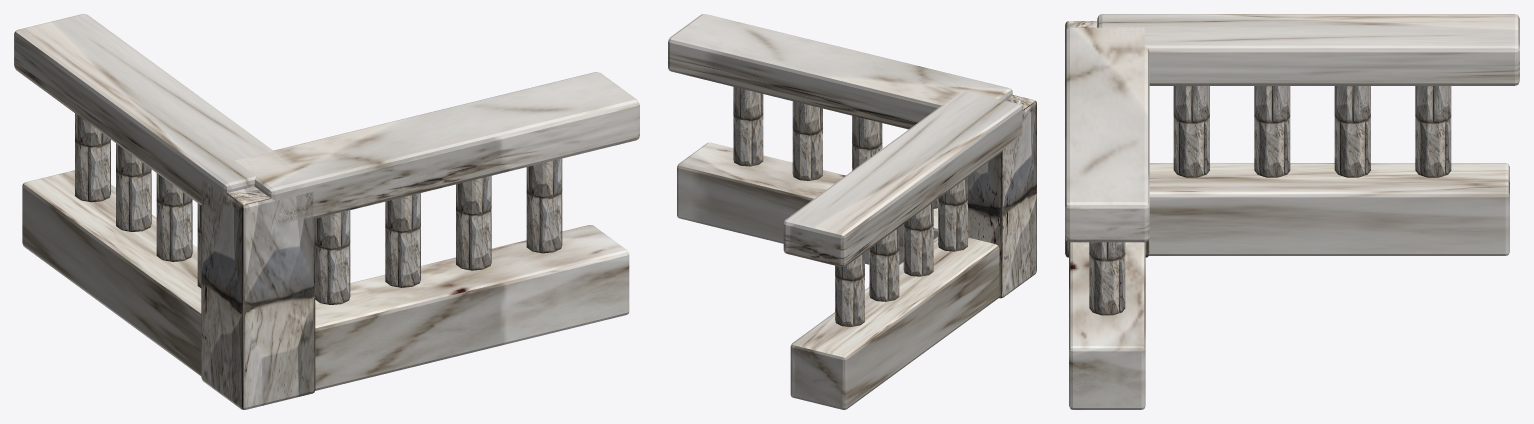
The model's file is balustrade_vault_corner_LOD1.glb.
The picture shows the model from 3 angles, left to right: view 1: azimuth 30°, elevation 25°; view 2: azimuth 150°, elevation 25°; view 3: azimuth 270°, elevation 25°; orthographic projection. The views are drawn at different scales.
Visible parts, largest first — view 1: LOD1_XRail, LOD1_XPlinth, LOD1_CornerPier, LOD1_YRail, LOD1_YPlinth, LOD1_Baluster.003, LOD1_Baluster, LOD1_Baluster.001, LOD1_Baluster.002, LOD1_Baluster.005, LOD1_Baluster.007, LOD1_Baluster.006; view 2: LOD1_XRail, LOD1_YRail, LOD1_YPlinth, LOD1_XPlinth, LOD1_CornerPier, LOD1_Baluster.002, LOD1_Baluster.003, LOD1_Baluster.006, LOD1_Baluster.005, LOD1_Baluster.007, LOD1_Baluster.004, LOD1_Baluster.001; view 3: LOD1_YPlinth, LOD1_YRail, LOD1_XRail, LOD1_XPlinth, LOD1_Baluster.005, LOD1_Baluster.007, LOD1_Baluster.004, LOD1_Baluster.006, LOD1_Baluster.003.
Part boxes in pixels (x1=…): LOD1_XRail: x1=235, y1=72, x2=639, y2=225; LOD1_XPlinth: x1=315, y1=225, x2=629, y2=390; LOD1_CornerPier: x1=201, y1=179, x2=315, y2=409; LOD1_YRail: x1=14, y1=14, x2=291, y2=217; LOD1_YPlinth: x1=22, y1=170, x2=201, y2=375; LOD1_Baluster.003: x1=526, y1=158, x2=562, y2=253; LOD1_Baluster: x1=315, y1=210, x2=350, y2=304; LOD1_Baluster.001: x1=385, y1=193, x2=420, y2=287; LOD1_Baluster.002: x1=456, y1=176, x2=491, y2=270; LOD1_Baluster.005: x1=156, y1=173, x2=192, y2=261; LOD1_Baluster.007: x1=75, y1=113, x2=110, y2=202; LOD1_Baluster.006: x1=116, y1=143, x2=151, y2=231; LOD1_XRail: x1=668, y1=14, x2=1012, y2=129; LOD1_YRail: x1=783, y1=91, x2=1022, y2=266; LOD1_YPlinth: x1=790, y1=237, x2=999, y2=409; LOD1_XPlinth: x1=677, y1=142, x2=937, y2=264; LOD1_CornerPier: x1=968, y1=95, x2=1036, y2=298; LOD1_Baluster.002: x1=792, y1=101, x2=822, y2=180; LOD1_Baluster.003: x1=733, y1=86, x2=763, y2=166; LOD1_Baluster.006: x1=869, y1=227, x2=899, y2=301; LOD1_Baluster.005: x1=903, y1=202, x2=933, y2=276; LOD1_Baluster.007: x1=835, y1=252, x2=864, y2=326; LOD1_Baluster.004: x1=938, y1=177, x2=967, y2=251; LOD1_Baluster.001: x1=852, y1=115, x2=882, y2=170; LOD1_YPlinth: x1=1149, y1=163, x2=1509, y2=255; LOD1_YRail: x1=1097, y1=14, x2=1519, y2=85; LOD1_XRail: x1=1065, y1=27, x2=1149, y2=242; LOD1_XPlinth: x1=1069, y1=242, x2=1145, y2=409; LOD1_Baluster.005: x1=1254, y1=86, x2=1290, y2=177; LOD1_Baluster.007: x1=1415, y1=86, x2=1451, y2=177; LOD1_Baluster.004: x1=1173, y1=86, x2=1209, y2=177; LOD1_Baluster.006: x1=1334, y1=86, x2=1370, y2=177; LOD1_Baluster.003: x1=1089, y1=242, x2=1125, y2=315.
Bounding box in the file's own units: 2.26 × 1.16 × 2.26.
1 material, 1 textured.
